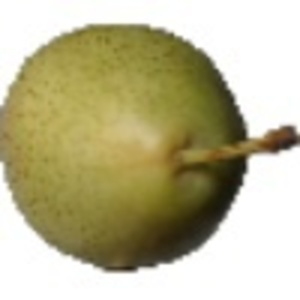pera: (1, 21, 300, 275)
